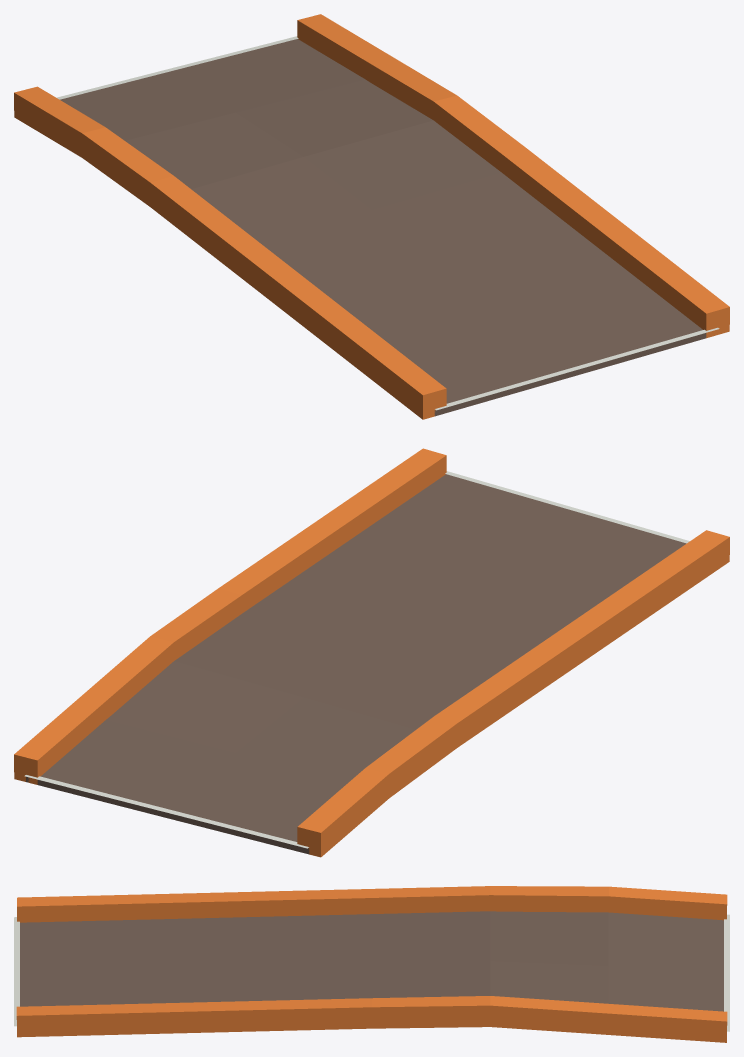
The model's file is SM_MP_Film_C_4_1.fbx.
3 renders of one model, top to bottom at view 1: azimuth 30°, elevation 25°; view 2: azimuth 150°, elevation 25°; view 3: azimuth 270°, elevation 25°, orthographic. The views are drawn at different scales.
Visible parts, largest first — view 1: SM_MP_Film_C_4_1; view 2: SM_MP_Film_C_4_1; view 3: SM_MP_Film_C_4_1.
Boxes of the visible parts, x1=… form: SM_MP_Film_C_4_1: x1=14, y1=14, x2=729, y2=419; SM_MP_Film_C_4_1: x1=14, y1=448, x2=729, y2=857; SM_MP_Film_C_4_1: x1=14, y1=886, x2=729, y2=1042.
Size of what is drawn, in the model's own units: 260 by 605 by 40.5.
